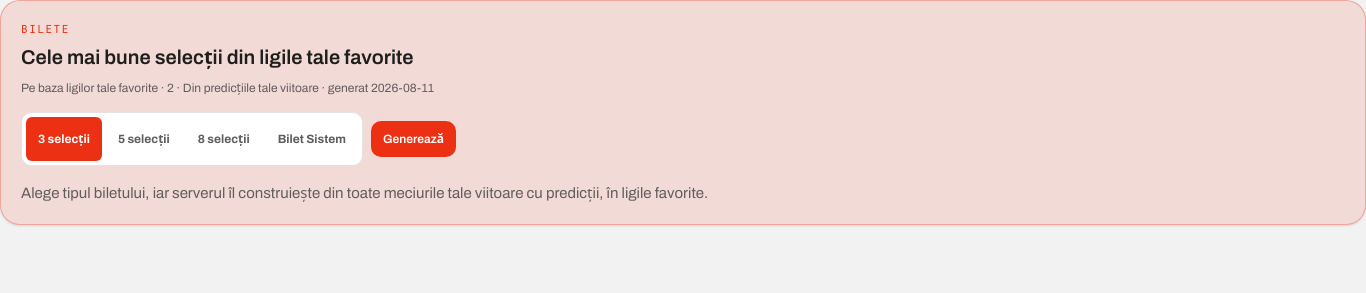
GlobalSpecialBetSection › shows the server's own reason on failure, with no retry where retrying cannot help
Click the button "Generează" at (414, 138), box [371, 120, 456, 156]
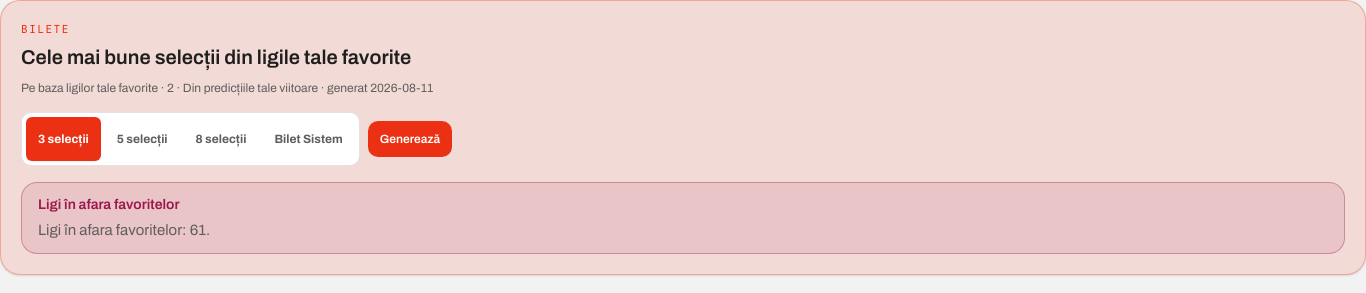
Check: the message "Ligi în afara favoritelor Ligi în afara favoritelor: 61." is shown, box [21, 182, 1345, 254]
Check: the text "Ligi în afara favoritelor: 61." is shown, box [38, 222, 210, 238]
